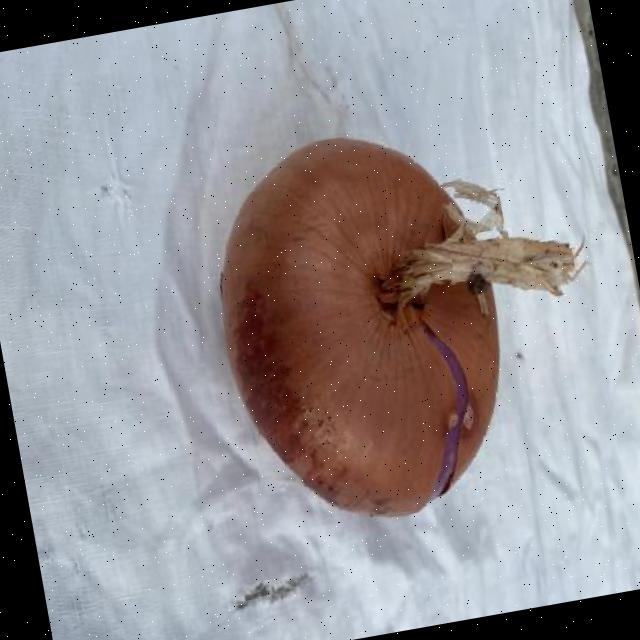Onion: (219, 139, 583, 517)
